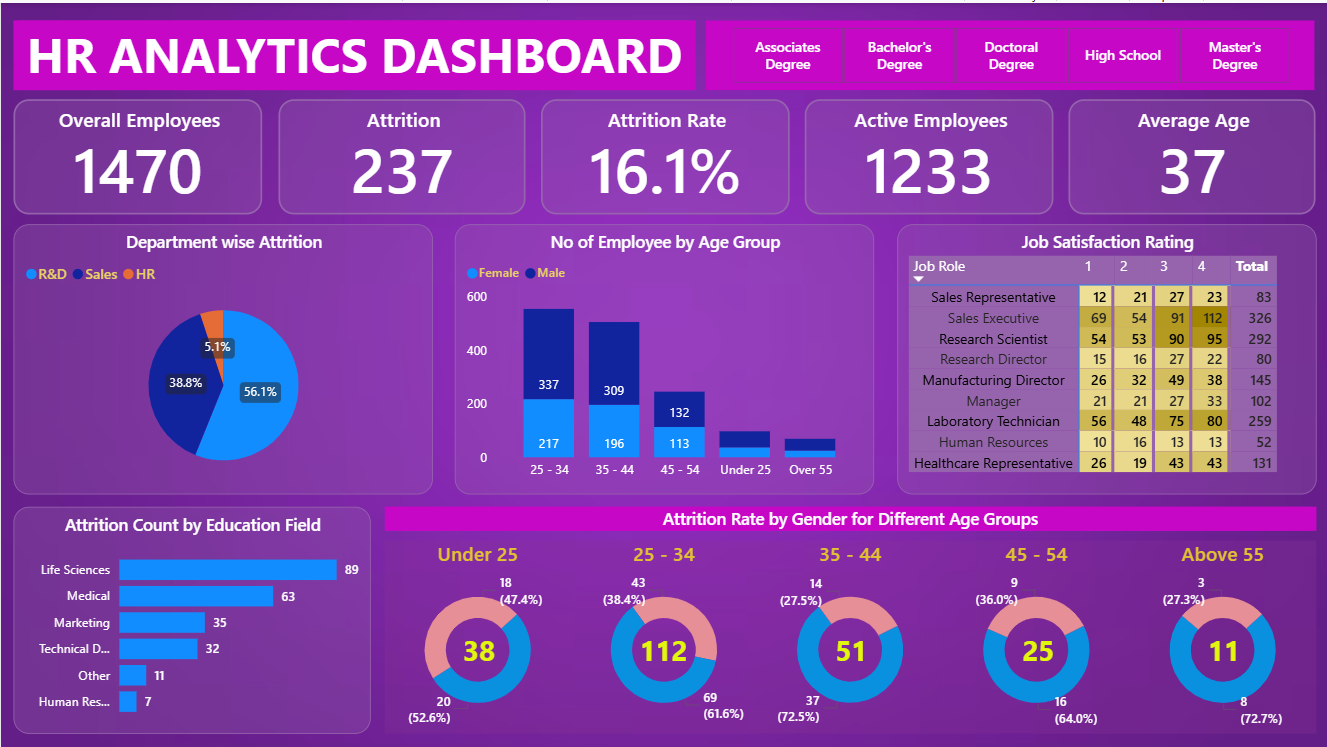

The dashboard page shown, as its layout file describes it:
{"tool":"powerbi","page":{"name":"Page 1","canvas":[1280,720],"ordinal":0},"visuals":[{"type":"card","title":"Overall Employees","fields":{"Values":["Sum(HR Data xlsx - HR data.Employee Count)"]},"box":[12.3,93.3,240.1,111.1],"z":0},{"type":"card","title":"Attrition","fields":{"Values":["HR Data xlsx - HR data.Attrition Count"]},"box":[267.2,93.3,238.8,111.1],"z":1000},{"type":"card","title":"Attrition Rate","fields":{"Values":["HR Data xlsx - HR data.Attrition Rate"]},"box":[520.8,93.3,240.1,111.1],"z":2000},{"type":"card","title":"Active Employees","fields":{"Values":["HR Data xlsx - HR data.Active Emp"]},"box":[775.6,93.3,240.1,111.1],"z":3000},{"type":"card","title":"Average Age","fields":{"Values":["Avg(HR Data xlsx - HR data.Age)"]},"box":[1030.5,93.3,238.8,111.1],"z":4000},{"type":"pieChart","title":"Department wise Attrition","fields":{"Category":["HR Data xlsx - HR data.Department"],"Y":["HR Data xlsx - HR data.Attrition Count"]},"box":[12.3,214.1,405,260.7],"z":5000},{"type":"columnChart","title":"No of Employee by Age Group","fields":{"Y":["Sum(HR Data xlsx - HR data.Employee Count)"],"Category":["HR Data xlsx - HR data.CF_age band"],"Series":["HR Data xlsx - HR data.Gender"]},"box":[438.4,214.1,405,260.7],"z":6000},{"type":"pivotTable","title":"Job Satisfaction Rating","fields":{"Rows":["HR Data xlsx - HR data.Job Role"],"Columns":["HR Data xlsx - HR data.Job Satisfaction"],"Values":["Sum(HR Data xlsx - HR data.Employee Count)"]},"box":[864.5,214.1,404.8,260.7],"z":7000},{"type":"barChart","fields":{"Y":["HR Data xlsx - HR data.Attrition Count"],"Category":["HR Data xlsx - HR data.Education Field"]},"box":[12.3,485.8,344.4,219.6],"z":8000},{"type":"donutChart","title":"Under 25","fields":{"Category":["HR Data xlsx - HR data.Gender"],"Y":["HR Data xlsx - HR data.Attrition Count"],"Series":["HR Data xlsx - HR data.CF_age band"]},"box":[370.5,518.7,179.8,186.6],"z":9000},{"type":"textbox","title":"Attrition Rate by Gender for Different Age Groups","box":[370.5,485.8,898.8,23.3],"z":10000},{"type":"donutChart","title":"25 - 34","fields":{"Category":["HR Data xlsx - HR data.Gender"],"Y":["HR Data xlsx - HR data.Attrition Count"],"Series":["HR Data xlsx - HR data.CF_age band"]},"box":[550.3,518.7,179.8,186.6],"z":11000},{"type":"donutChart","title":"45 - 54","fields":{"Category":["HR Data xlsx - HR data.Gender"],"Y":["HR Data xlsx - HR data.Attrition Count"],"Series":["HR Data xlsx - HR data.CF_age band"]},"box":[909.8,518.7,179.8,186.6],"z":12000},{"type":"donutChart","title":"Above 55","fields":{"Category":["HR Data xlsx - HR data.Gender"],"Y":["HR Data xlsx - HR data.Attrition Count"],"Series":["HR Data xlsx - HR data.CF_age band"]},"box":[1089.5,518.7,179.8,186.6],"z":13000},{"type":"donutChart","title":"35 - 44","fields":{"Category":["HR Data xlsx - HR data.Gender"],"Y":["HR Data xlsx - HR data.Attrition Count"],"Series":["HR Data xlsx - HR data.CF_age band"]},"box":[730,518.7,179.8,186.6],"z":14000},{"type":"card","fields":{"Values":["HR Data xlsx - HR data.Attrition Count"]},"box":[425.4,595.5,71.4,59],"z":15000},{"type":"card","fields":{"Values":["HR Data xlsx - HR data.Attrition Count"]},"box":[1144.4,601,71.4,49.4],"z":16000},{"type":"card","fields":{"Values":["HR Data xlsx - HR data.Attrition Count"]},"box":[966,601,70,49.4],"z":17000},{"type":"card","fields":{"Values":["HR Data xlsx - HR data.Attrition Count"]},"box":[786.3,601,68.6,49.4],"z":18000},{"type":"card","fields":{"Values":["HR Data xlsx - HR data.Attrition Count"]},"box":[607.9,601,63.1,49.4],"z":19000},{"type":"textbox","title":"HR ANALYTICS DASHBOARD","box":[12.3,16.5,658.7,67.2],"z":20000},{"type":"slicer","fields":{"Values":["HR Data xlsx - HR data.Education"]},"box":[680.6,16.5,587.3,67.2],"z":21000}]}

Visuals, with their boxes in screenshot pixels (x1, y1, x2, y2), scaled from the page's 1280x720 canvas onto the 1327x747 screenshot:
"Overall Employees" card: 13, 97, 262, 212
"Attrition" card: 277, 97, 525, 212
"Attrition Rate" card: 540, 97, 789, 212
"Active Employees" card: 804, 97, 1053, 212
"Average Age" card: 1068, 97, 1316, 212
"Department wise Attrition" pieChart: 13, 222, 433, 493
"No of Employee by Age Group" columnChart: 454, 222, 874, 493
"Job Satisfaction Rating" pivotTable: 896, 222, 1316, 493
barChart - HR Data xlsx - HR data.Attrition Count x HR Data xlsx - HR data.Education Field: 13, 504, 370, 732
"Under 25" donutChart: 384, 538, 571, 732
"Attrition Rate by Gender for Different Age Groups" textbox: 384, 504, 1316, 528
"25 - 34" donutChart: 571, 538, 757, 732
"45 - 54" donutChart: 943, 538, 1130, 732
"Above 55" donutChart: 1130, 538, 1316, 732
"35 - 44" donutChart: 757, 538, 943, 732
card - HR Data xlsx - HR data.Attrition Count: 441, 618, 515, 679
card - HR Data xlsx - HR data.Attrition Count: 1186, 624, 1260, 675
card - HR Data xlsx - HR data.Attrition Count: 1001, 624, 1074, 675
card - HR Data xlsx - HR data.Attrition Count: 815, 624, 886, 675
card - HR Data xlsx - HR data.Attrition Count: 630, 624, 696, 675
"HR ANALYTICS DASHBOARD" textbox: 13, 17, 696, 87
slicer - HR Data xlsx - HR data.Education: 706, 17, 1314, 87
